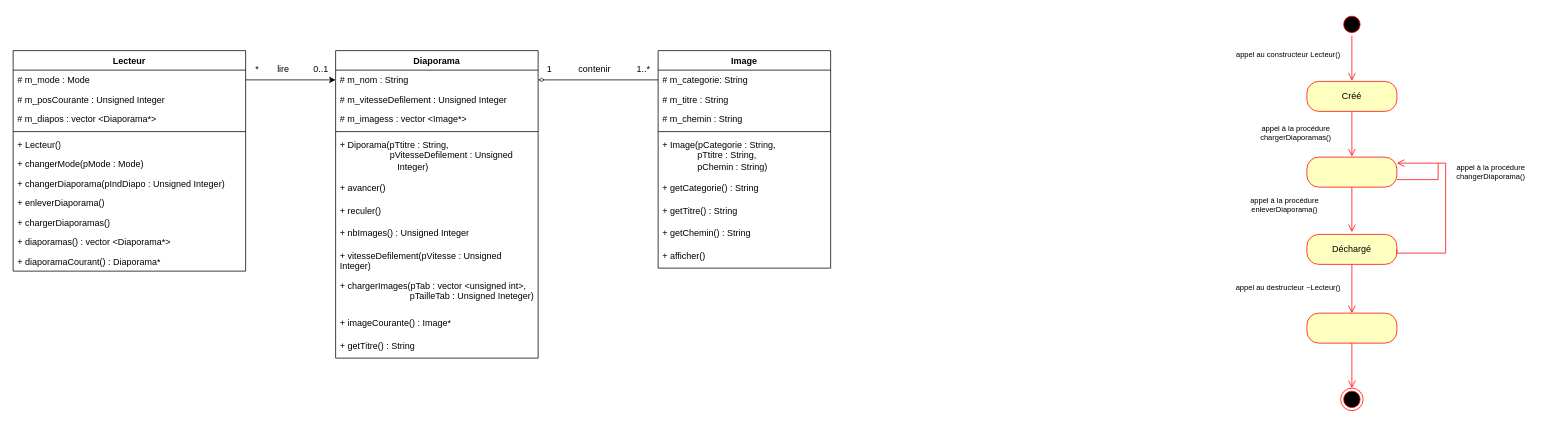
This 1549x424 diagram has some shape labels left out. The box of each missing label's shape, as (x1, y1, x2, y2) in pixels:
Chargé: (1306, 156, 1397, 187)
Détruit: (1306, 312, 1397, 343)
